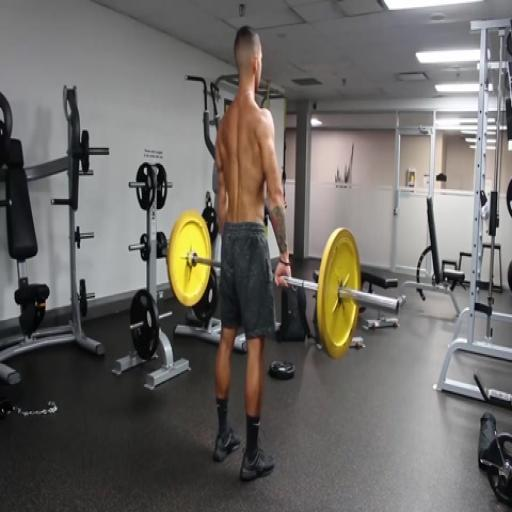exercise: (209, 22, 294, 484)
